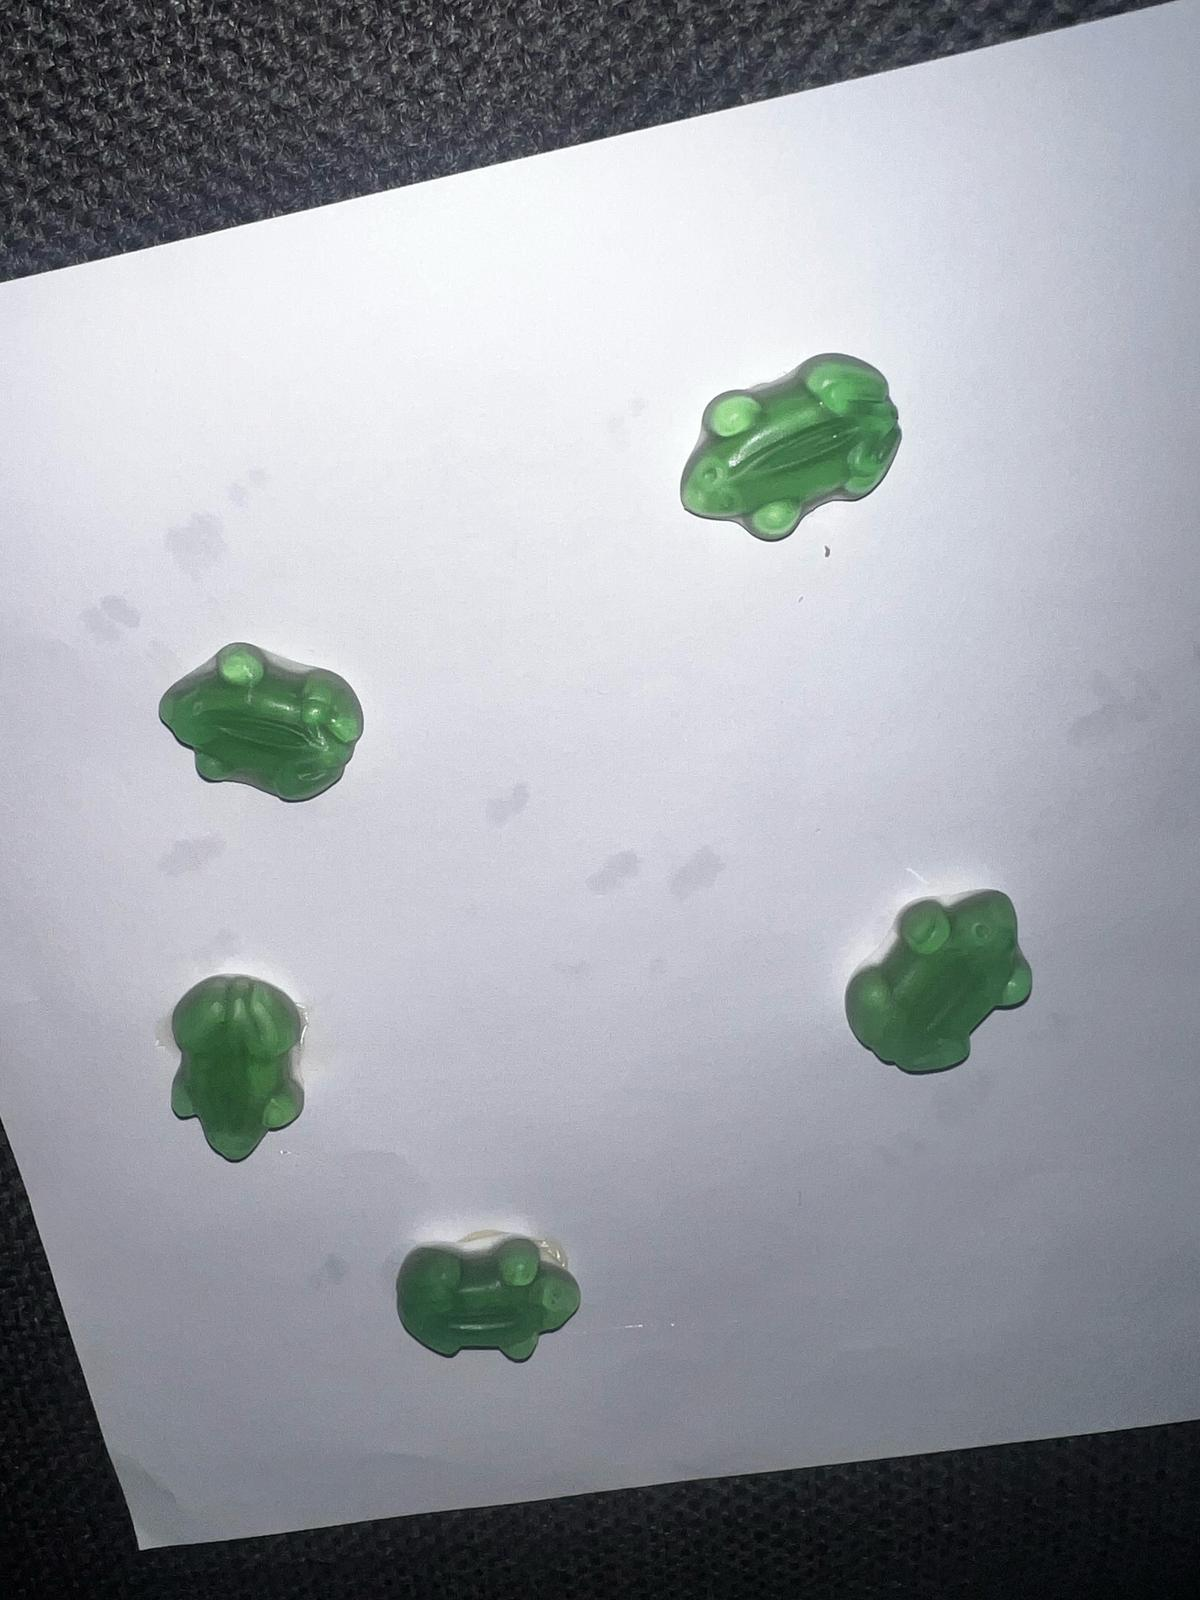frog: (676, 351, 915, 544), (151, 632, 366, 813), (841, 883, 1039, 1077), (163, 971, 313, 1164), (388, 1233, 594, 1369)
